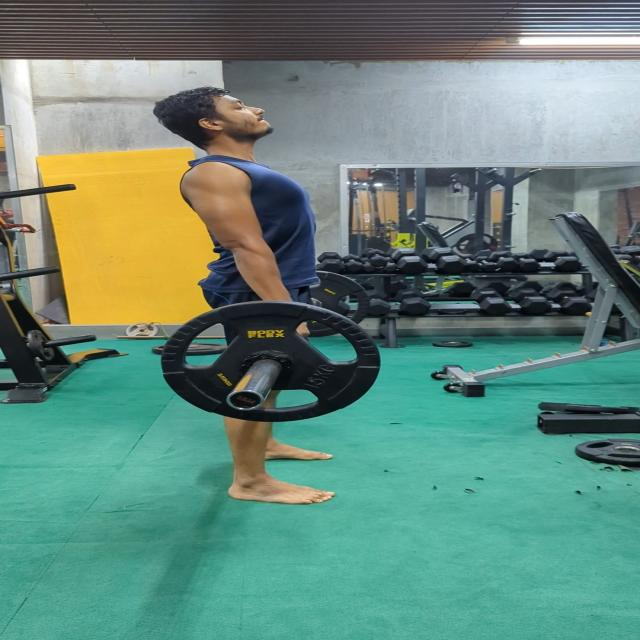Normal_Deadlifts: (137, 83, 365, 507)
